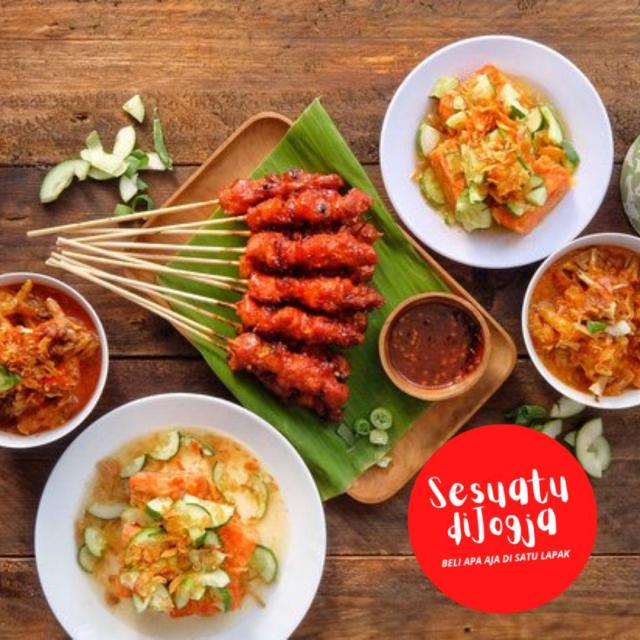Sate: (32, 185, 374, 427)
